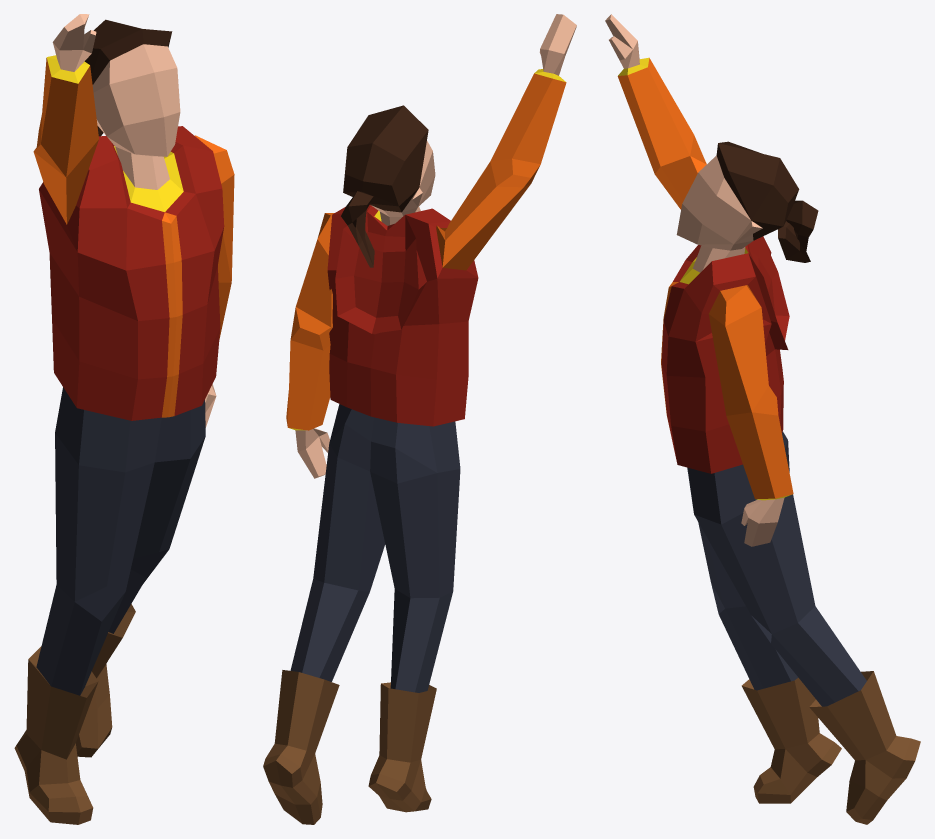
File: AutumnGirl.004.glb
3 views of the same model, side by side, from view 1: azimuth 30°, elevation 25°; view 2: azimuth 150°, elevation 25°; view 3: azimuth 270°, elevation 25° (orthographic). The views are drawn at different scales.
Parts seen in each view (by area): view 1: AutumnGirl.004; view 2: AutumnGirl.004; view 3: AutumnGirl.004.
Boxes of the visible parts, x1,y1,x2,y2 form: AutumnGirl.004: [14, 14, 234, 824]; AutumnGirl.004: [263, 14, 576, 824]; AutumnGirl.004: [605, 14, 920, 824].
Size of the model in its own units: 0.5805 by 1.97 by 0.7544.
Materials: 1 (1 with a texture image).
